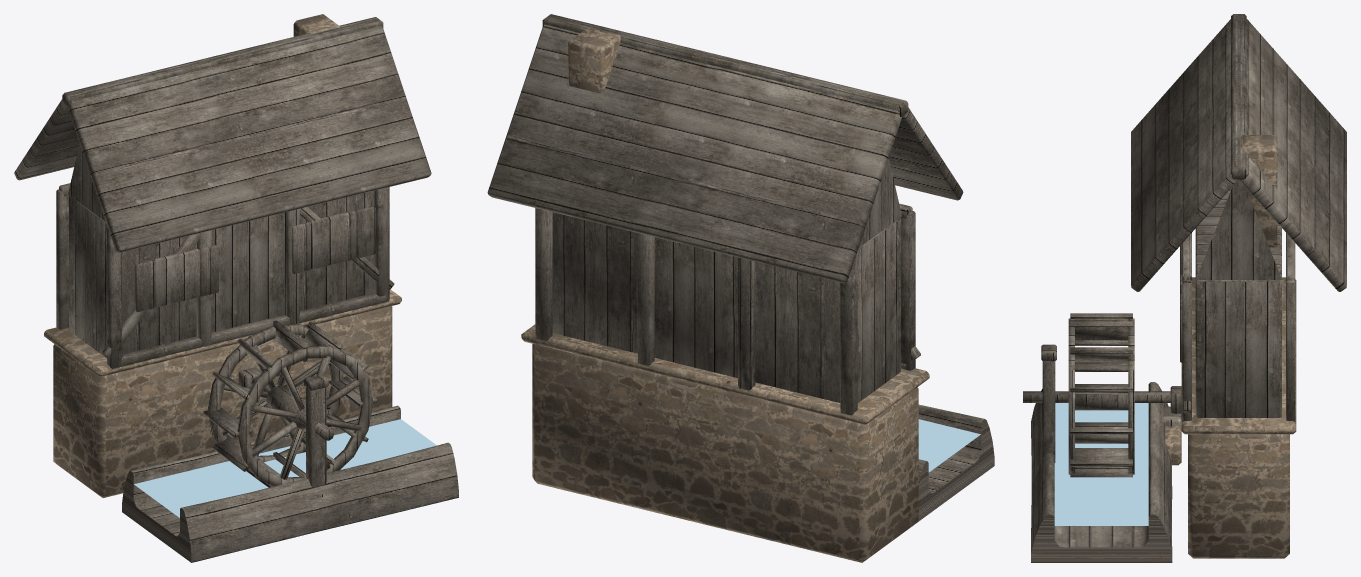
The model's file is mill.glb.
3 views of the same model, side by side, from view 1: azimuth 30°, elevation 25°; view 2: azimuth 150°, elevation 25°; view 3: azimuth 270°, elevation 25° (orthographic). The views are drawn at different scales.
Parts seen in each view (by area): view 1: MillWoodBody, MillStoneBody, Channel, Wheel, Water; view 2: MillWoodBody, MillStoneBody, Channel, Water; view 3: MillWoodBody, MillStoneBody, Wheel, Channel, Water.
Boxes of the visible parts, x1,y1,x2,y2 form: MillWoodBody: (14,17,431,499); MillStoneBody: (44,14,401,497); Channel: (122,405,458,562); Wheel: (203,320,377,487); Water: (134,419,436,517); MillWoodBody: (487,14,963,415); MillStoneBody: (521,27,929,562); Channel: (917,404,994,522); Water: (918,419,980,472); MillWoodBody: (1038,14,1346,470); MillStoneBody: (1165,135,1296,558); Wheel: (1023,313,1170,477); Channel: (1031,382,1172,562); Water: (1054,403,1148,525).
Size of the model in its own units: 2.36 by 2.86 by 2.06.
4 materials, 3 textured.
